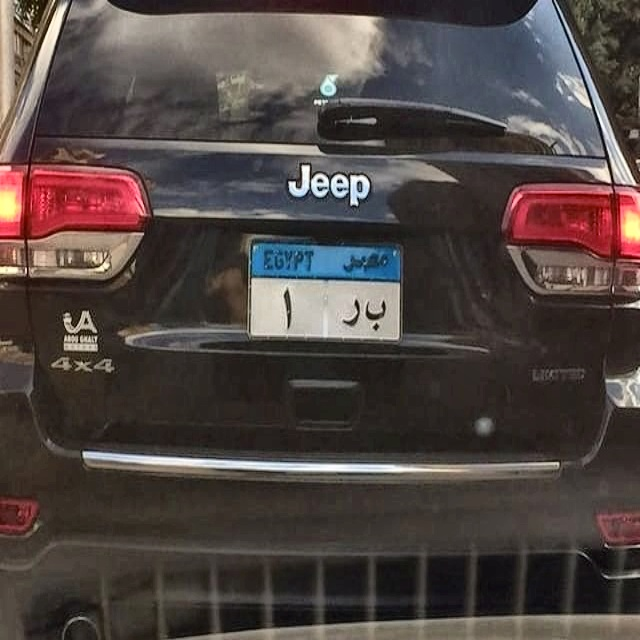License Plate: (243, 235, 406, 347)
